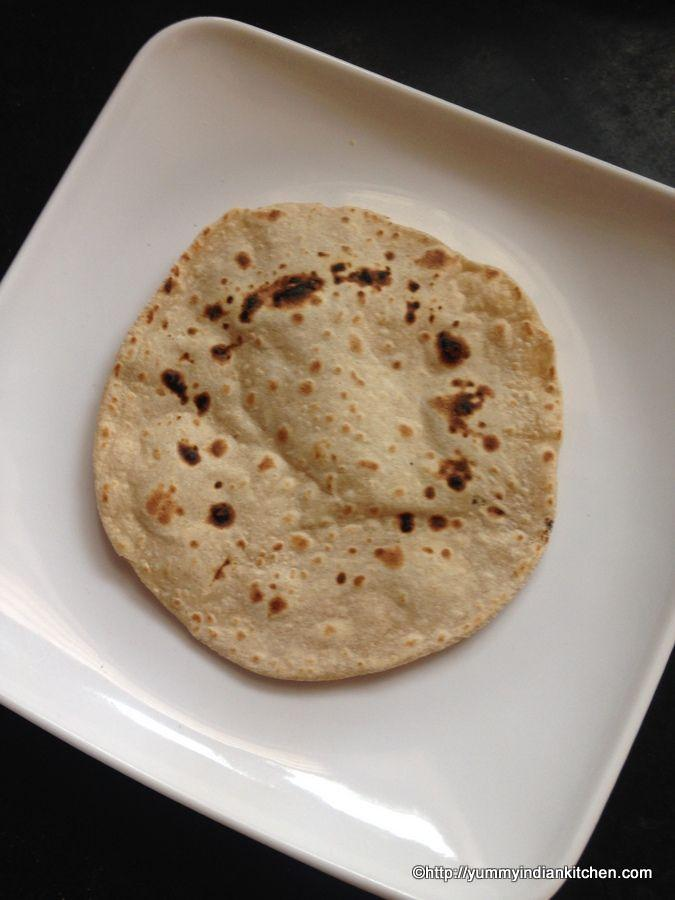roti phulka: (89, 198, 571, 690)
